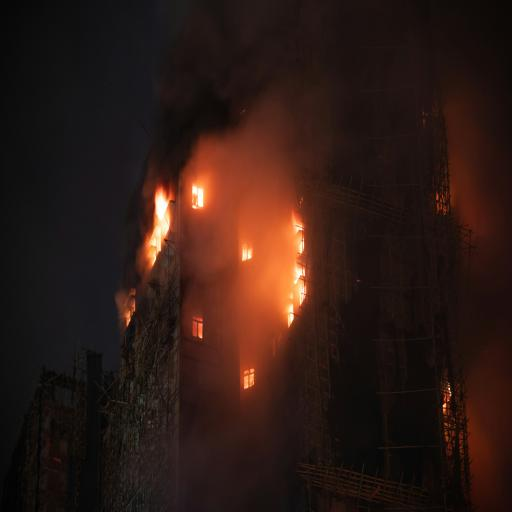buildingfire: (54, 18, 512, 512)
smoke: (123, 0, 512, 161), (219, 83, 291, 255)
